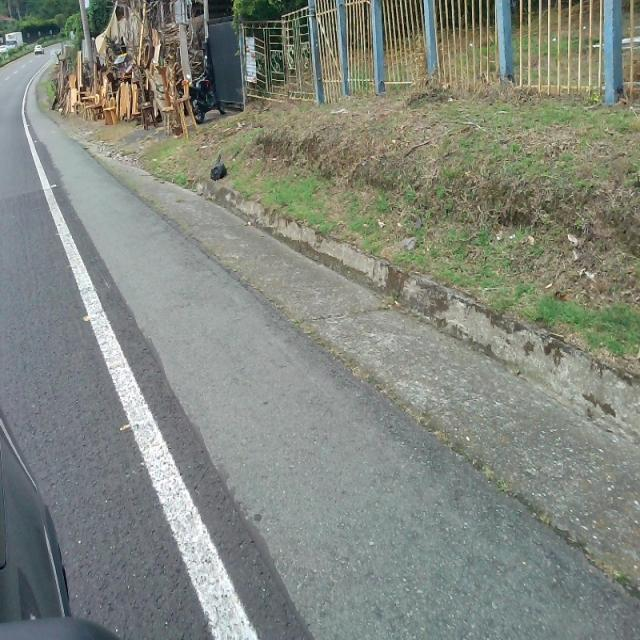DITCH: (22, 50, 639, 637), (61, 64, 636, 638)
